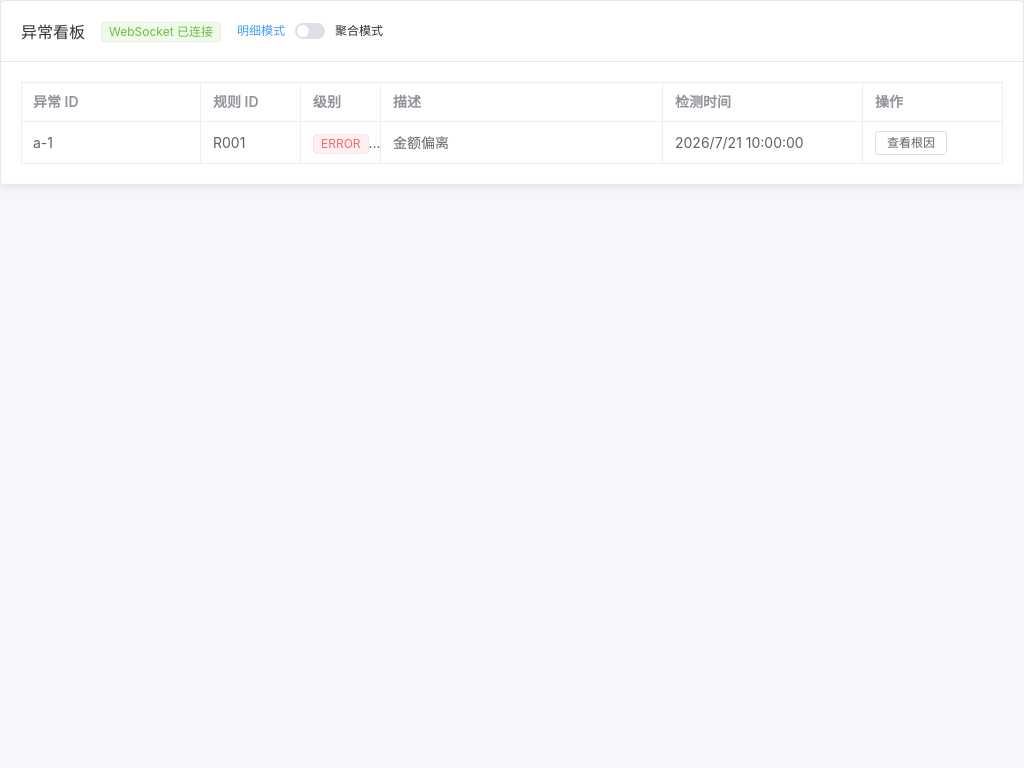
it: AnomalyDashboard › getAnalysis 失败时对话框给出失败原因与重试入口，而非空白
Click the button with test id "anomaly-item-a-1" at (911, 143), box [875,131,947,155]
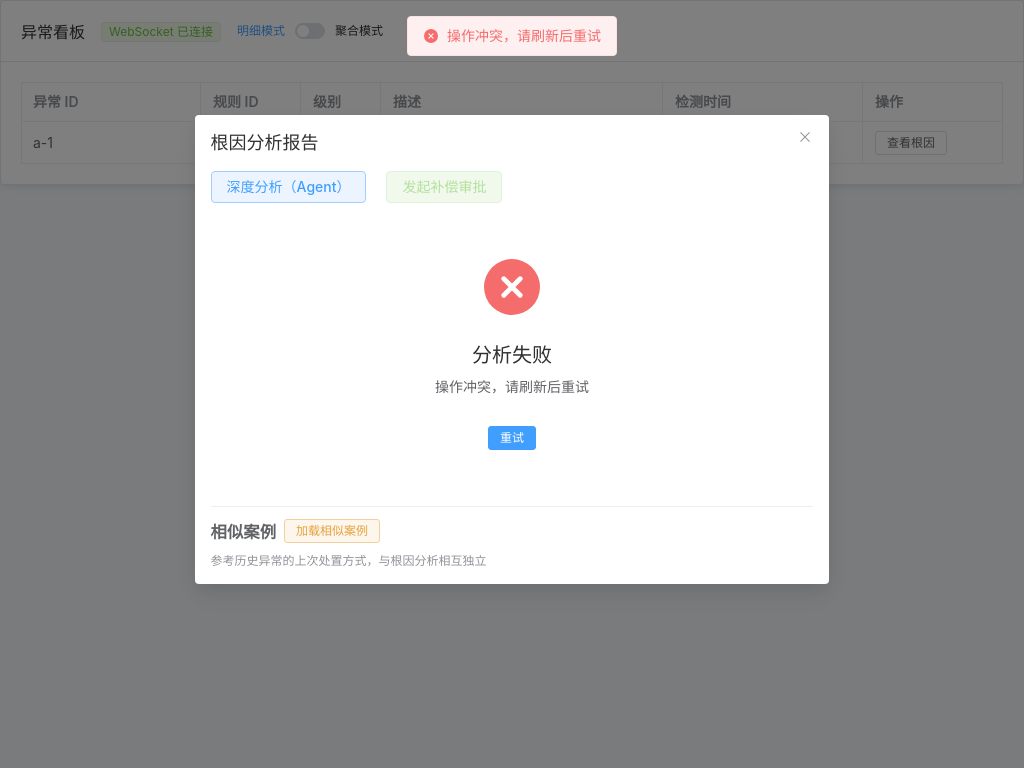
Result: the text "分析失败" is shown at [472,342,552,368]
Result: the text "操作冲突，请刷新后重试" is shown at [435,378,589,396]
Result: the button "重试" is shown
Click the button "重试" at (512, 438), box [488,426,536,450]
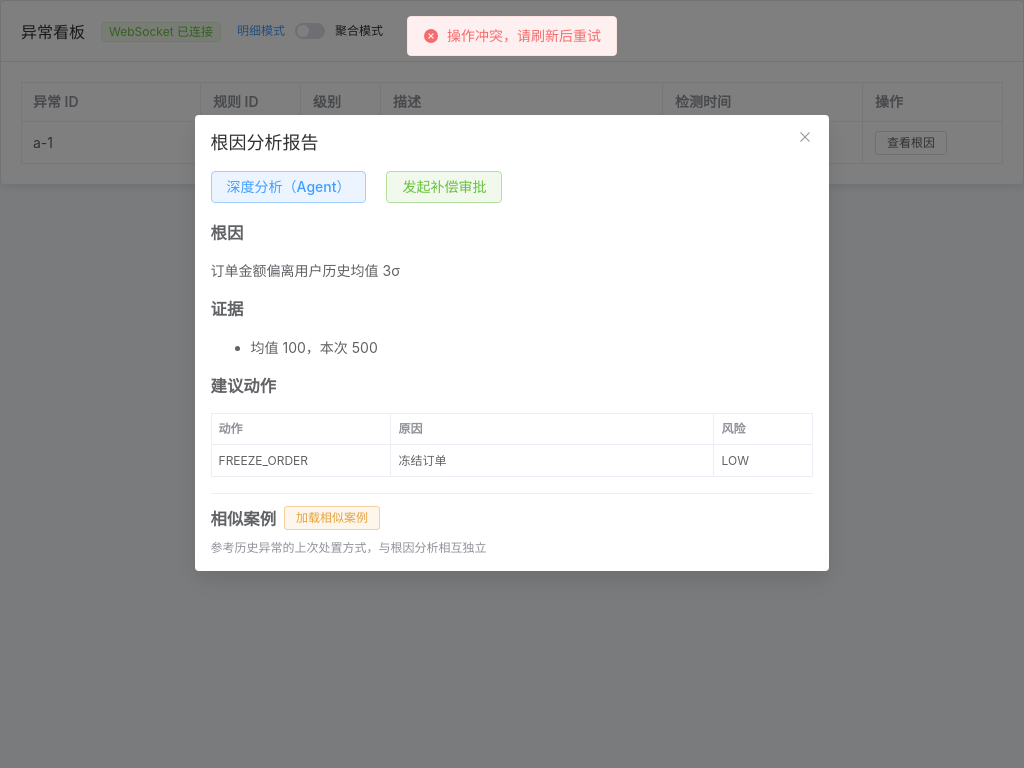
Result: the text "订单金额偏离用户历史均值" is shown at [211,262,400,279]
